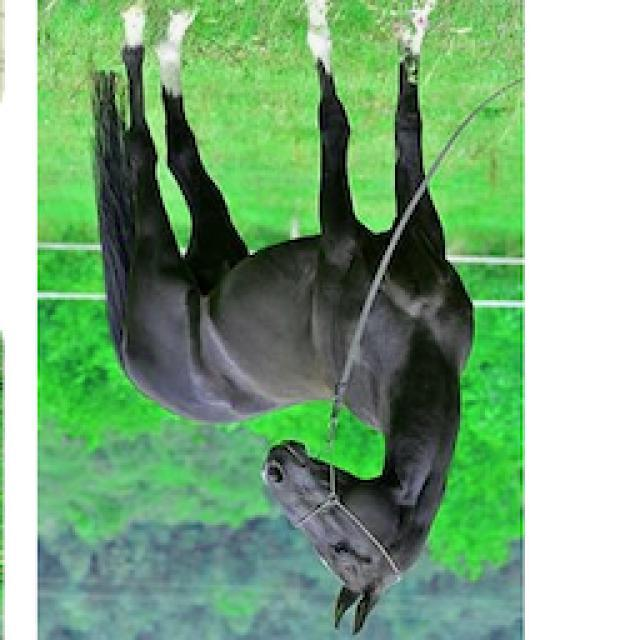Horse: (80, 2, 485, 640)
